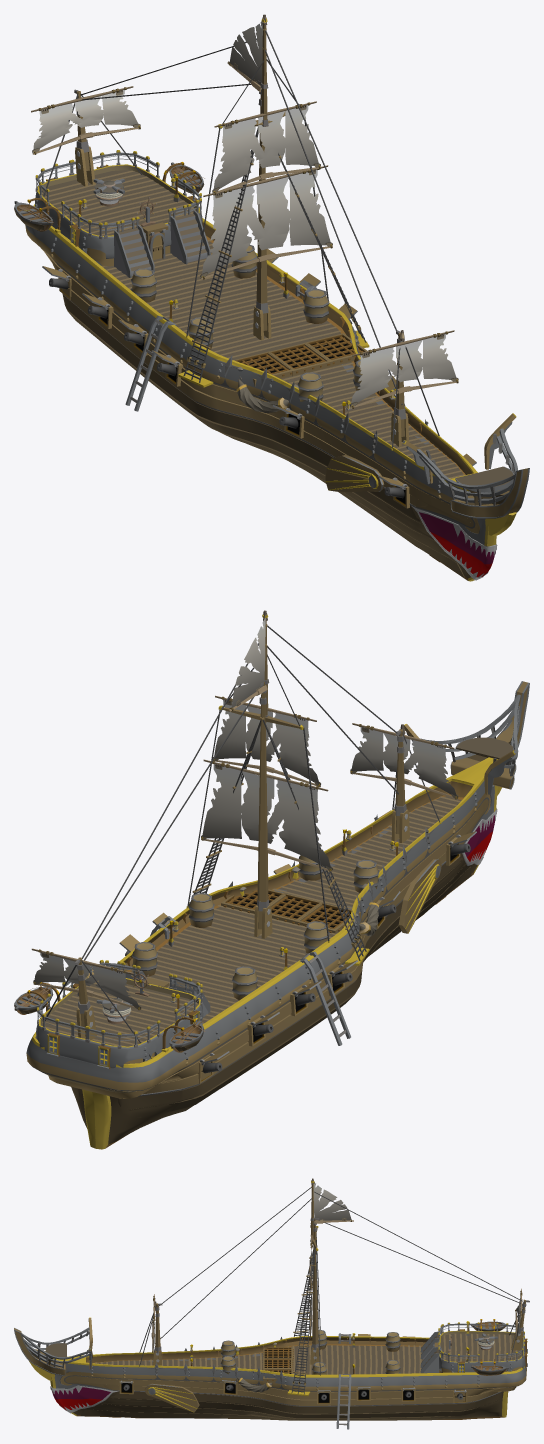
Rendered from tasarim5.glb.
3 renders of one model, top to bottom at view 1: azimuth 30°, elevation 25°; view 2: azimuth 150°, elevation 25°; view 3: azimuth 270°, elevation 25°, orthographic. The views are drawn at different scales.
Visible parts, largest first — view 1: Ship_0; view 2: Ship_0; view 3: Ship_0.
Part boxes in pixels (bbox=[...]): Ship_0: bbox=[14, 14, 529, 581]; Ship_0: bbox=[14, 610, 529, 1149]; Ship_0: bbox=[14, 1178, 529, 1429].
Size of the model in its own units: 158 by 293 by 574.
